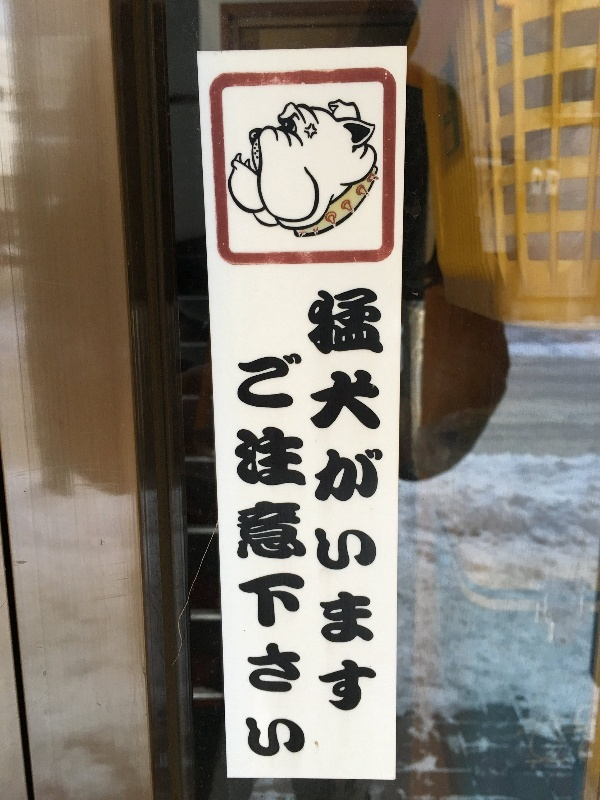text: (321, 288, 336, 716), (337, 288, 352, 716), (353, 288, 368, 716), (369, 288, 384, 716), (241, 345, 256, 759), (257, 345, 272, 759), (273, 345, 288, 759), (289, 345, 304, 759), (307, 288, 320, 716), (305, 345, 313, 759), (234, 345, 240, 759), (385, 288, 386, 716)
